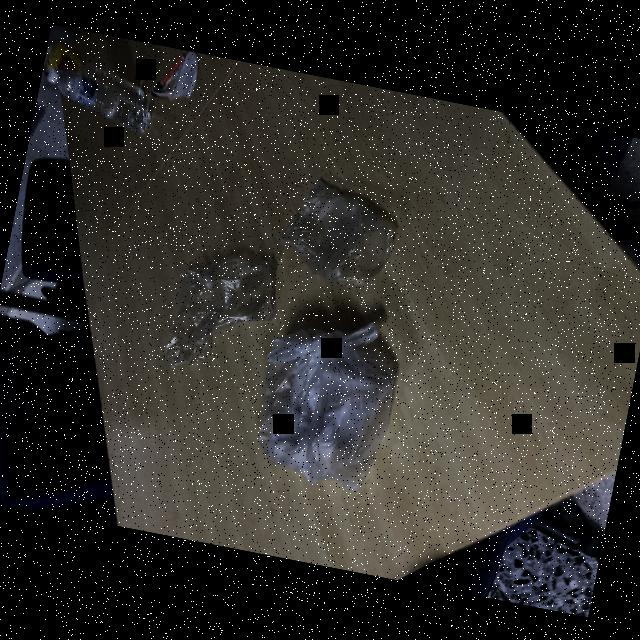plastic_bag: (236, 304, 430, 502), (146, 238, 290, 390), (271, 162, 414, 297)
plastic_bottle: (32, 64, 164, 150), (41, 35, 159, 102)
scrap_plastic: (150, 45, 207, 110)
